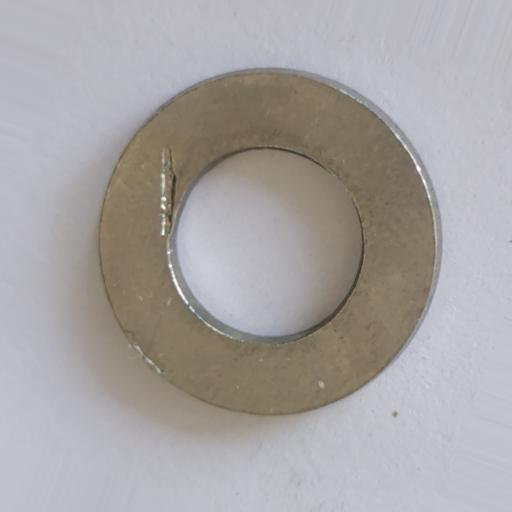scratch: (158, 147, 176, 237)
